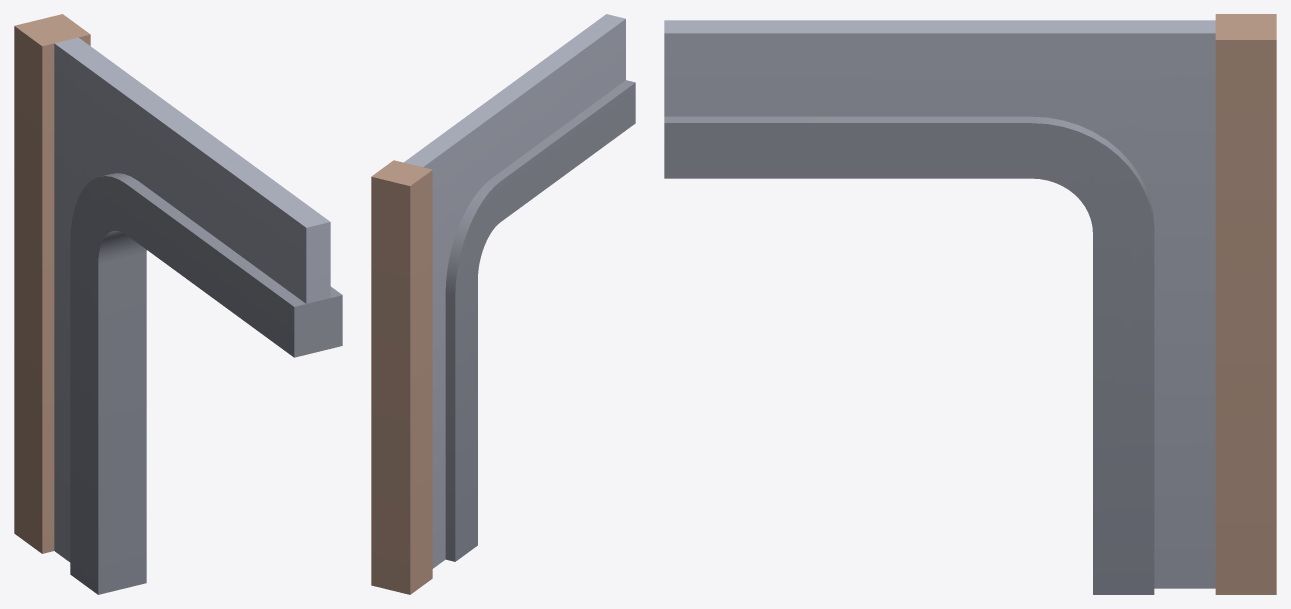
Rendered from wall-doorway-square-wide-curved.glb.
3 views of the same model, side by side, from view 1: azimuth 30°, elevation 25°; view 2: azimuth 150°, elevation 25°; view 3: azimuth 270°, elevation 25° (orthographic). The views are drawn at different scales.
Visible parts, largest first — view 1: wall-doorway-square-wide-curved; view 2: wall-doorway-square-wide-curved; view 3: wall-doorway-square-wide-curved.
Part boxes in pixels (bbox=[...]): wall-doorway-square-wide-curved: bbox=[14, 14, 342, 594]; wall-doorway-square-wide-curved: bbox=[371, 14, 635, 594]; wall-doorway-square-wide-curved: bbox=[664, 14, 1276, 594].
Bounding box in the file's own units: 0.1 × 1 × 1.
